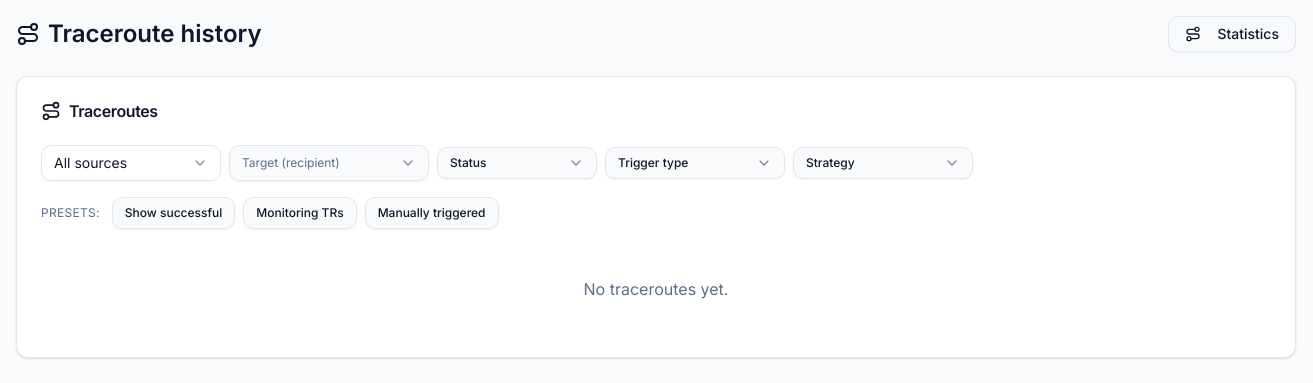
Scenario: TracerouteHistory › status filter dropdown uses Queued and In flight labels
This screenshot has width=1313, height=383.
Click the button "Status": (517, 163) [437,147,597,179]
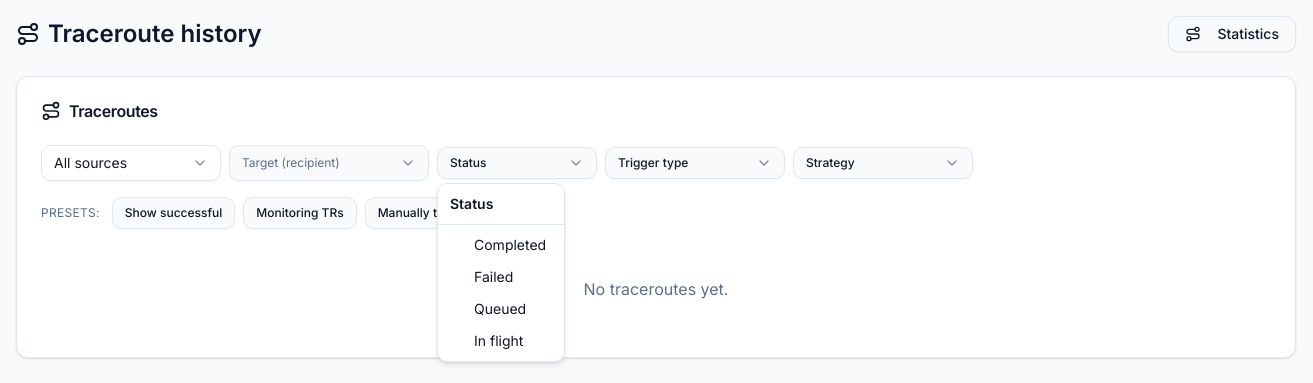
Expected: the menu item "Queued" is shown, [474,300,526,317]
Expected: the menu item "In flight" is shown, [474,332,523,349]
